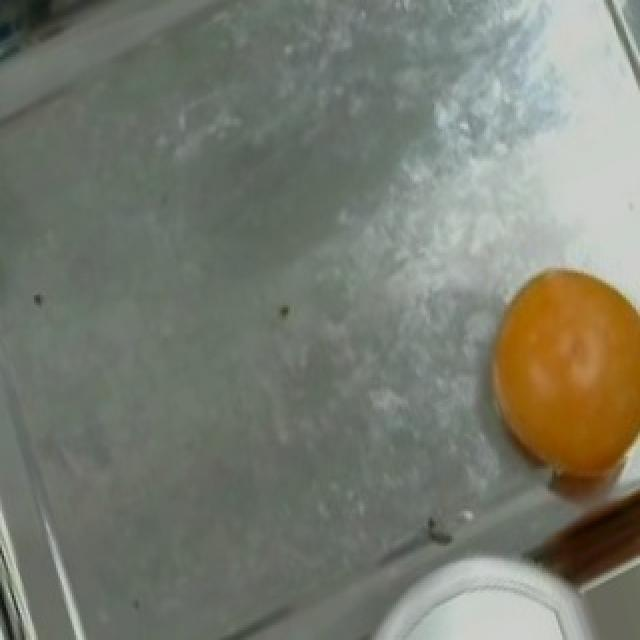Fruit: (466, 246, 638, 506), (386, 568, 594, 640)
